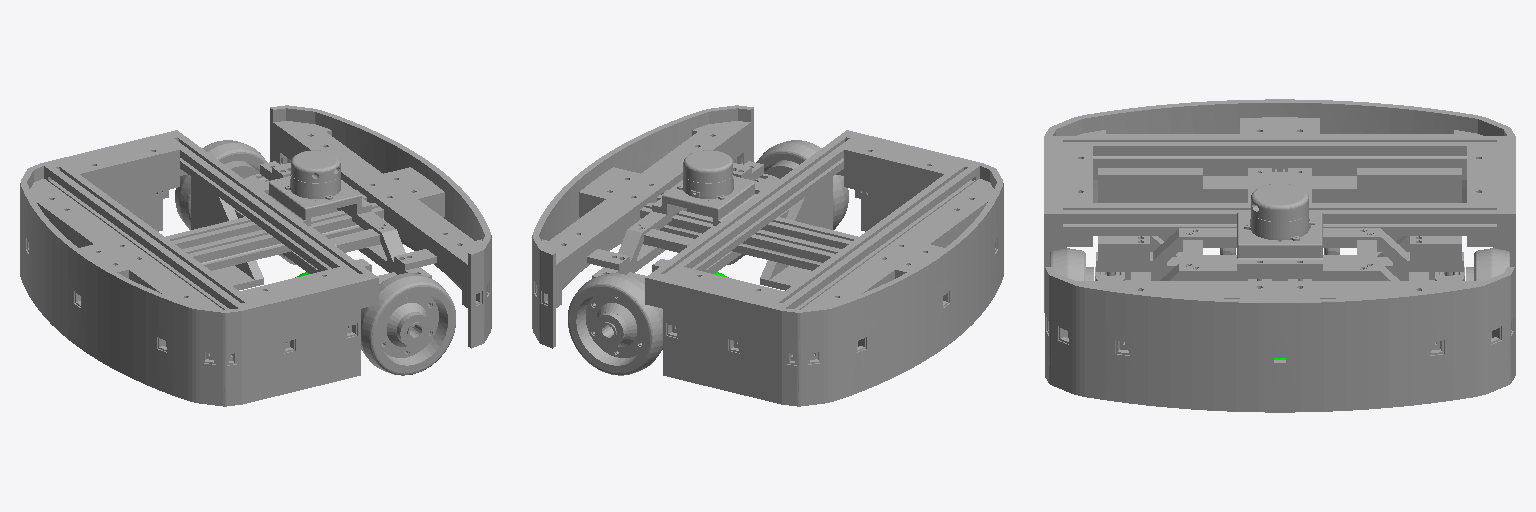
robot.urdf — comobot:
<?xml version="1.0" encoding="utf-8"?>
<!-- =================================================================================== -->
<!-- |    This document was autogenerated by xacro from comobot.xacro                  | -->
<!-- |    EDITING THIS FILE BY HAND IS NOT RECOMMENDED                                 | -->
<!-- =================================================================================== -->
<robot name="comobot">
  <material name="silver">
    <color rgba="0.700 0.700 0.700 1.000"/>
  </material>

  <link name="base_link">
    <inertial>
      <origin rpy="0 0 0" xyz="-0.11116681296334317 2.4438031969407686e-07 0.10795957199598556"/>
      <mass value="13.634730617679848"/>
      <inertia ixx="0.475183" ixy="-0.000109" ixz="0.003459" iyy="0.438473" iyz="-0.0" izz="0.868845"/>
    </inertial>
    <visual>
      <origin rpy="0 0 0" xyz="0 0 0"/>
      <geometry>
        <mesh filename="package://como_urdf/meshes/base_link.stl" scale="0.001 0.001 0.001"/>
      </geometry>
      <material name="silver"/>
    </visual>
    <collision>
      <origin rpy="0 0 0" xyz="0 0 0"/>
      <geometry>
        <mesh filename="package://como_urdf/meshes/base_link.stl" scale="0.001 0.001 0.001"/>
      </geometry>
    </collision>
  </link>

  <link name="laser_scan">
    <inertial>
      <origin rpy="0 0 0" xyz="-0.00012003535987023445 0.0005134412924180124 0.022186860841184652"/>
      <mass value="0.18368341137526367"/>
      <inertia ixx="9.4e-05" ixy="-0.0" ixz="0.0" iyy="9.3e-05" iyz="-1e-06" izz="0.000122"/>
    </inertial>
    <visual>
      <origin rpy="0 0 0" xyz="0.0 -0.0 -0.187147"/>
      <geometry>
        <mesh filename="package://como_urdf/meshes/laser_scan.stl" scale="0.001 0.001 0.001"/>
      </geometry>
      <material name="silver"/>
    </visual>
    <collision>
      <origin rpy="0 0 0" xyz="0.0 -0.0 -0.187147"/>
      <geometry>
        <mesh filename="package://como_urdf/meshes/laser_scan.stl" scale="0.001 0.001 0.001"/>
      </geometry>
    </collision>
  </link>

  <link name="imu_link">
    <visual>
      <origin rpy="0 0 0" xyz="0 0 0"/>
      <geometry>
        <sphere radius="0.05"/>
      </geometry>
      <material name="green">
            <color rgba="0 1 0 1"/>
      </material>
    </visual>
  </link>

  <joint name="joint1" type="fixed">
    <origin rpy="0 0 0" xyz="0.0 0.0 0.187147"/>
    <parent link="base_link"/>
    <child link="laser_scan"/>
  </joint>
  
  <joint name="joint2" type="fixed">
    <origin rpy="0 0 0" xyz="0.0 0.0 0.0"/>
    <parent link="base_link"/>
    <child link="imu_link"/>
  </joint>

<!-- ToF -->
  <link name="ToF1">
  </link>
  <joint name="ToF1_joint" type="fixed">
    <origin rpy="0 0 0" xyz="0.17516 0.0 0.102147"/>
    <parent link="base_link"/>
    <child link="ToF1"/>
  </joint>
  
  <link name="ToF2">
  </link>
  <joint name="ToF2_joint" type="fixed">
    <origin rpy="0 0 0.122173" xyz="0.153406 0.191503 0.102147"/>
    <parent link="base_link"/>
    <child link="ToF2"/>
  </joint>
  
  <link name="ToF3">
  </link>
  <joint name="ToF3_joint" type="fixed">
    <origin rpy="0 0 0.807564" xyz="0.126565 0.262076 0.102147"/>
    <parent link="base_link"/>
    <child link="ToF3"/>
  </joint>

  <link name="ToF4">
  </link>
  <joint name="ToF4_joint" type="fixed">
    <origin rpy="0 0 1.335177" xyz="0.104187 0.279599 0.102147"/>
    <parent link="base_link"/>
    <child link="ToF4"/>
  </joint>

  <link name="ToF5">
  </link>
  <joint name="ToF5_joint" type="fixed">
    <origin rpy="0 0 1.5708" xyz="-0.104187 0.282544 0.102147"/>
    <parent link="base_link"/>
    <child link="ToF5"/>
  </joint>

  <link name="ToF6">
  </link>
  <joint name="ToF6_joint" type="fixed">
    <origin rpy="0 0 1.5708" xyz="-0.21204 0.282544 0.102147"/>
    <parent link="base_link"/>
    <child link="ToF6"/>
  </joint>

  <link name="ToF7">
  </link>
  <joint name="ToF7_joint" type="fixed">
    <origin rpy="0 0 1.806765" xyz="-0.304194 0.279587 0.102147"/>
    <parent link="base_link"/>
    <child link="ToF7"/>
  </joint>

  <link name="ToF8">
  </link>
  <joint name="ToF8_joint" type="fixed">
    <origin rpy="0 0 2.378360" xyz="-0.326568 0.262069 0.102147"/>
    <parent link="base_link"/>
    <child link="ToF8"/>
  </joint>

  <link name="ToF9">
  </link>
  <joint name="ToF9_joint" type="fixed">
    <origin rpy="0 0 2.84489" xyz="-0.358406 0.191503 0.102147"/>
    <parent link="base_link"/>
    <child link="ToF9"/>
  </joint>

  <link name="ToF10">
  </link>
  <joint name="ToF10_joint" type="fixed">
    <origin rpy="0 0 3.141592" xyz="-0.37516 0.0 0.102147"/>
    <parent link="base_link"/>
    <child link="ToF10"/>
  </joint>

  <link name="ToF11">
  </link>
  <joint name="ToF11_joint" type="fixed">
    <origin rpy="0 0 -2.84489" xyz="-0.358406 -0.191503 0.102147"/>
    <parent link="base_link"/>
    <child link="ToF11"/>
  </joint>

  <link name="ToF12">
  </link>
  <joint name="ToF12_joint" type="fixed">
    <origin rpy="0 0 -2.378360" xyz="-0.326568 -0.262069 0.102147"/>
    <parent link="base_link"/>
    <child link="ToF12"/>
  </joint>

  <link name="ToF13">
  </link>
  <joint name="ToF13_joint" type="fixed">
    <origin rpy="0 0 -1.806765" xyz="-0.304194 -0.279587 0.102147"/>
    <parent link="base_link"/>
    <child link="ToF13"/>
  </joint>
  
  <link name="ToF14">
  </link>
  <joint name="ToF14_joint" type="fixed">
    <origin rpy="0 0 -1.5708" xyz="-0.21204 -0.282544 0.102147"/>
    <parent link="base_link"/>
    <child link="ToF14"/>
  </joint>

  <link name="ToF15">
  </link>
  <joint name="ToF15_joint" type="fixed">
    <origin rpy="0 0 -1.5708" xyz="-0.104187 -0.282544 0.102147"/>
    <parent link="base_link"/>
    <child link="ToF15"/>
  </joint>

  <link name="ToF16">
  </link>
  <joint name="ToF16_joint" type="fixed">
    <origin rpy="0 0 -1.335177" xyz="0.104187 -0.279599 0.102147"/>
    <parent link="base_link"/>
    <child link="ToF16"/>
  </joint>

  <link name="ToF17">
  </link>
  <joint name="ToF17_joint" type="fixed">
    <origin rpy="0 0 -0.807564" xyz="0.126565 -0.262076 0.102147"/>
    <parent link="base_link"/>
    <child link="ToF17"/>
  </joint>

  <link name="ToF18">
  </link>
  <joint name="ToF18_joint" type="fixed">
    <origin rpy="0 0 -0.122173" xyz="0.153406 -0.191503 0.102147"/>
    <parent link="base_link"/>
    <child link="ToF18"/>
  </joint>

</robot>

--- Render facts (derived) ---
Views: 3 orthographic renders of the robot side by side, from view 1: azimuth 30°, elevation 25°; view 2: azimuth 150°, elevation 25°; view 3: azimuth 270°, elevation 25°.
Model comobot with 21 links and 20 joints (20 fixed), rooted at base_link, posed all joints at 0.
Visible links, largest first — view 1: base_link, laser_scan; view 2: base_link, laser_scan; view 3: base_link, laser_scan.
Boxes of the visible links, bbox=[...] form: base_link: bbox=[20, 105, 491, 406]; laser_scan: bbox=[285, 150, 340, 199]; base_link: bbox=[532, 105, 1003, 406]; laser_scan: bbox=[677, 150, 733, 199]; base_link: bbox=[1044, 99, 1515, 412]; laser_scan: bbox=[1244, 184, 1314, 240].
Size in the robot's own frame: 0.5991 by 0.5851 by 0.2831 metres.
2 mesh visuals loaded from 2 distinct referenced files (2 binary STL).